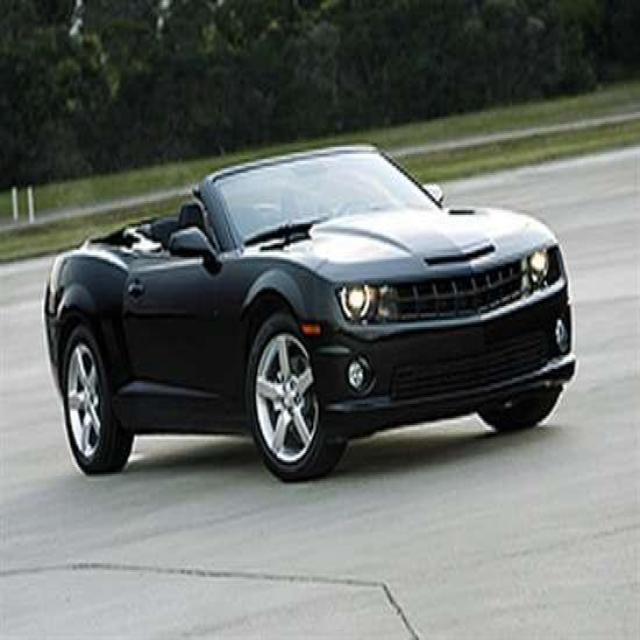Car: (54, 141, 600, 482)
